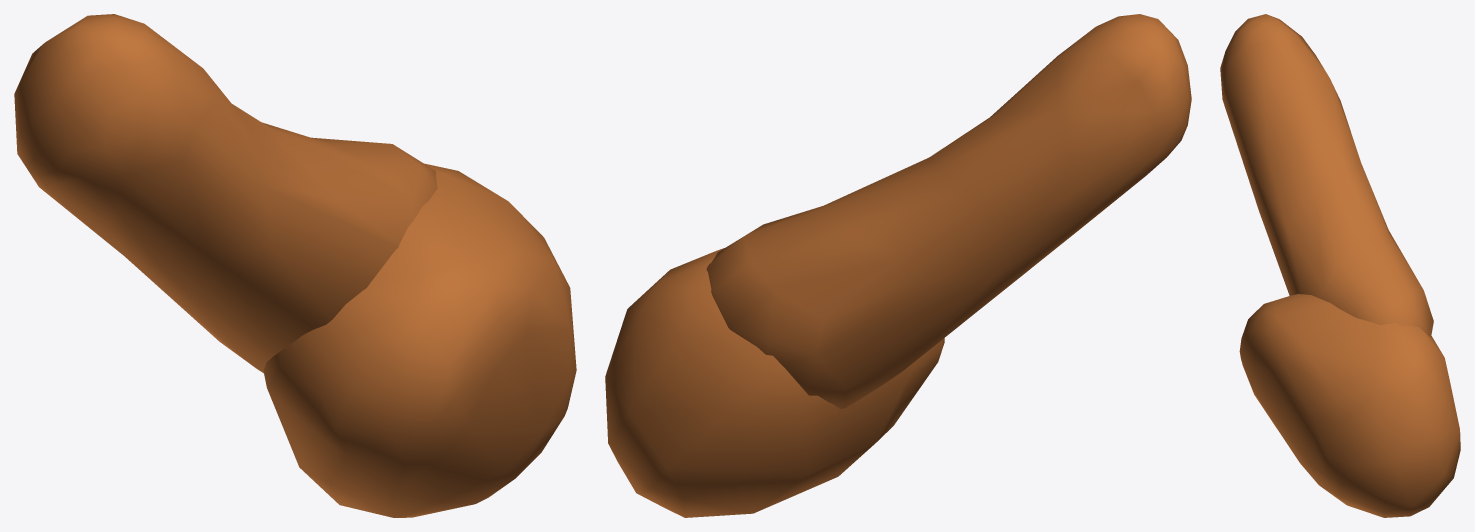
File: Inferior_colliculus_right.glb
3 views of the same model, side by side, from view 1: azimuth 30°, elevation 25°; view 2: azimuth 150°, elevation 25°; view 3: azimuth 270°, elevation 25° (orthographic). The views are drawn at different scales.
Visible parts, largest first — view 1: Inferior_colliculus.r_grp1.090; view 2: Inferior_colliculus.r_grp1.090; view 3: Inferior_colliculus.r_grp1.090.
Boxes of the visible parts, x1,y1,x2,y2 form: Inferior_colliculus.r_grp1.090: (14, 14, 576, 517); Inferior_colliculus.r_grp1.090: (605, 14, 1191, 517); Inferior_colliculus.r_grp1.090: (1220, 14, 1460, 517).
Bounding box in the file's own units: 0.0141 × 0.0141 × 0.00825.
